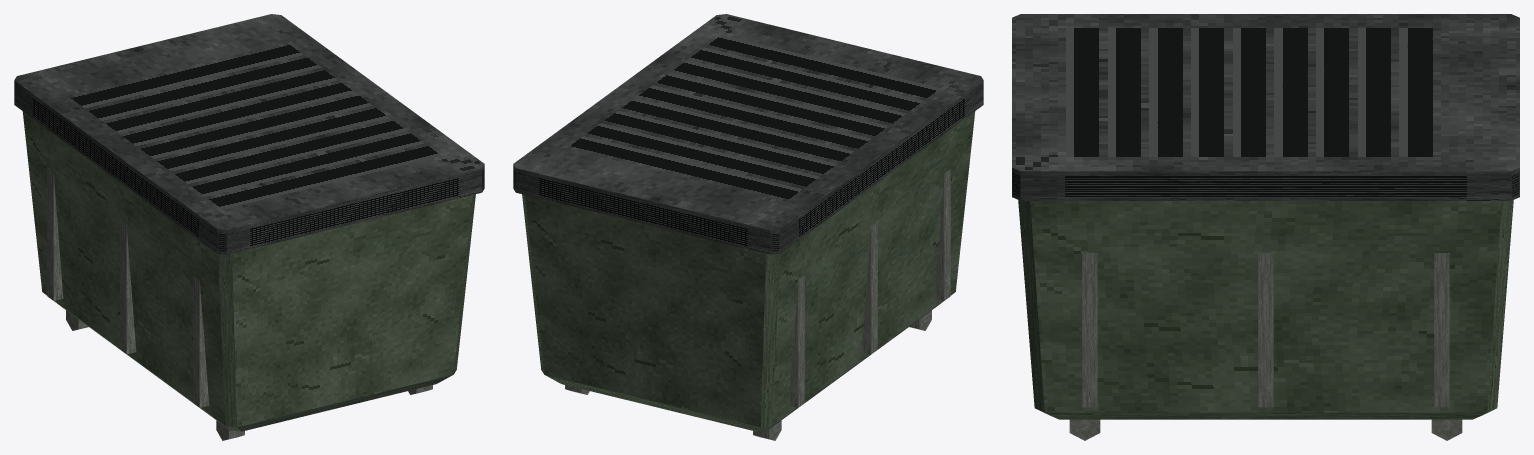
The model's file is dumpster.glb.
3 views of the same model, side by side, from view 1: azimuth 30°, elevation 25°; view 2: azimuth 150°, elevation 25°; view 3: azimuth 270°, elevation 25° (orthographic). The views are drawn at different scales.
Visible parts, largest first — view 1: Body; view 2: Body; view 3: Body.
Boxes of the visible parts, x1,y1,x2,y2 form: Body: (14, 14, 484, 440); Body: (513, 14, 983, 440); Body: (1012, 14, 1519, 440).
Size of the model in its own units: 1.48 by 1.26 by 2.02.
Materials: 1 (1 with a texture image).
